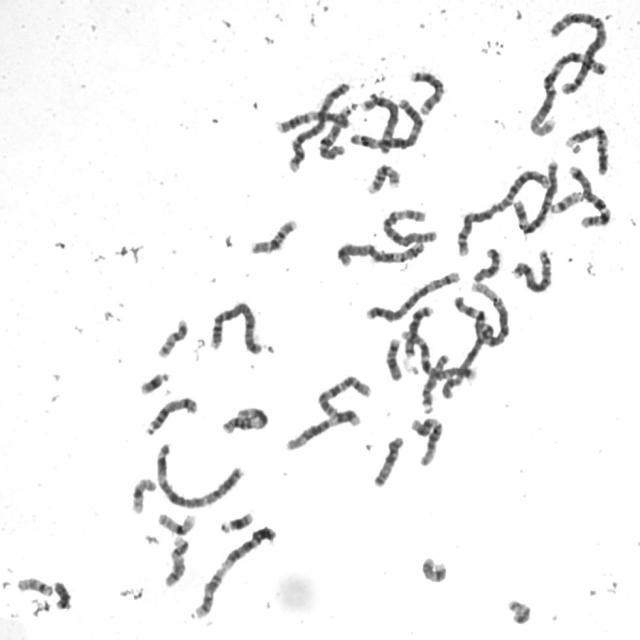A1: (526, 45, 608, 138), (450, 278, 512, 349)
A2: (452, 164, 556, 258), (546, 7, 609, 96)
A3: (152, 440, 246, 510), (349, 92, 426, 152)
B4: (282, 78, 350, 174), (207, 298, 265, 356)
B5: (362, 266, 462, 324), (333, 233, 432, 275)
C10: (313, 370, 373, 419), (317, 100, 357, 164)
C11: (271, 105, 353, 134), (214, 404, 272, 435)
C12: (282, 405, 363, 452), (401, 418, 446, 468)
C6: (510, 156, 560, 234), (380, 205, 440, 247)
C7: (398, 326, 479, 383), (564, 160, 613, 229)
C8: (360, 95, 399, 159), (508, 244, 554, 295)
C9: (218, 526, 280, 574), (561, 121, 611, 176)
D13: (185, 570, 234, 626), (401, 301, 436, 360)
D14: (141, 392, 199, 438), (406, 66, 446, 117)
D15: (417, 349, 451, 414), (370, 432, 406, 489)
E16: (246, 214, 299, 256), (364, 160, 402, 196)
E17: (160, 533, 190, 588), (418, 553, 450, 584)
E18: (469, 244, 503, 284), (383, 334, 404, 383)
F19: (153, 507, 198, 536), (127, 473, 158, 515)
F20: (154, 315, 190, 359), (438, 376, 463, 404)
G21: (135, 366, 172, 397), (216, 508, 256, 535)
G22: (547, 186, 585, 215), (13, 572, 55, 598)
X: (456, 322, 497, 382)
Y: (49, 577, 73, 611)
